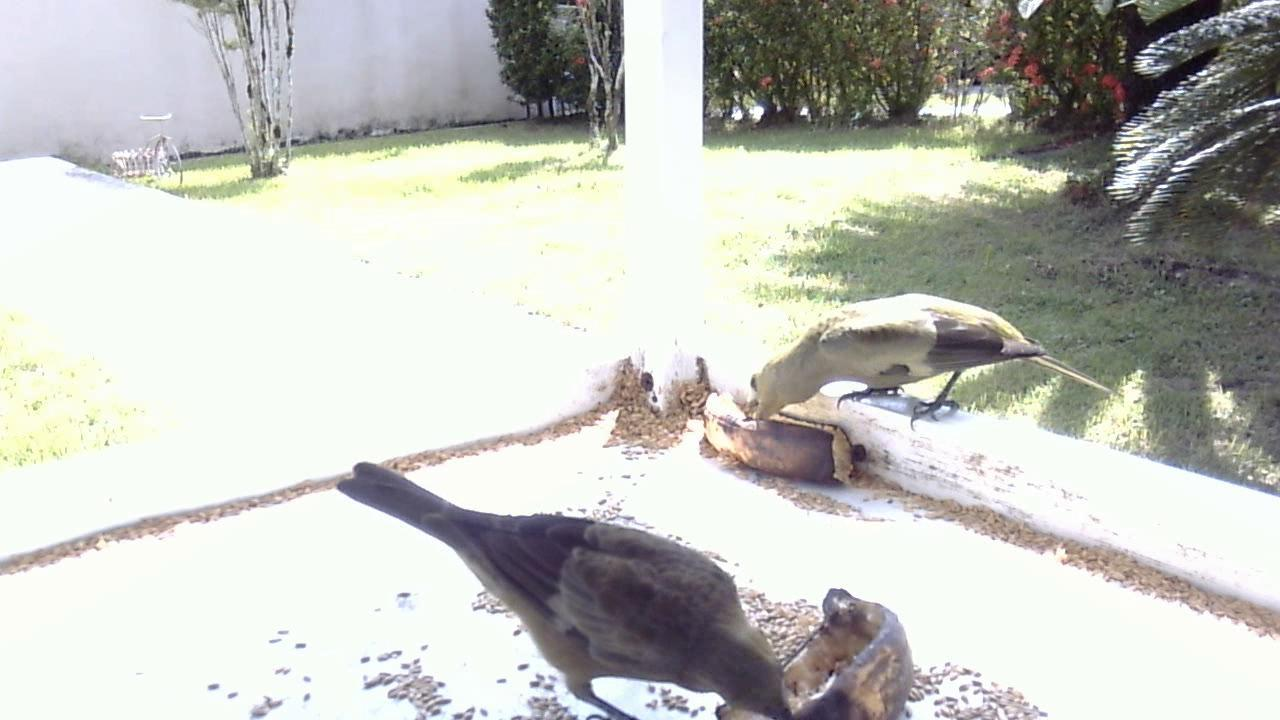sanhaco_do_coqueiro: (321, 422, 829, 720), (747, 286, 1076, 469)
